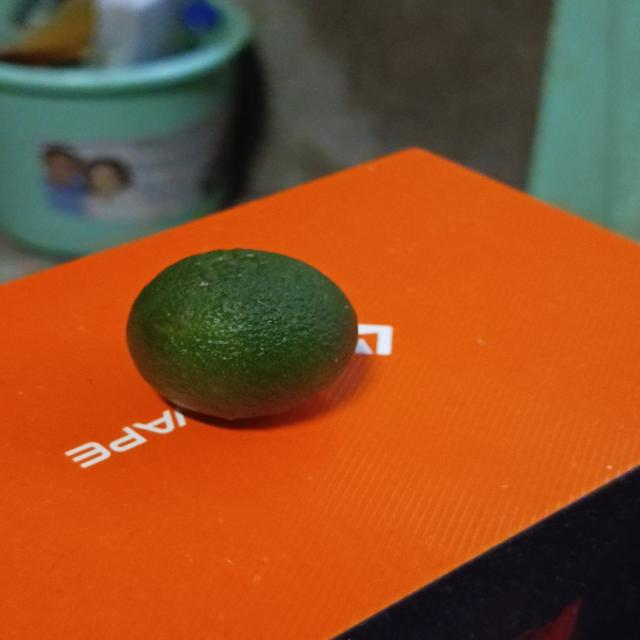heathy: (118, 247, 372, 432)
